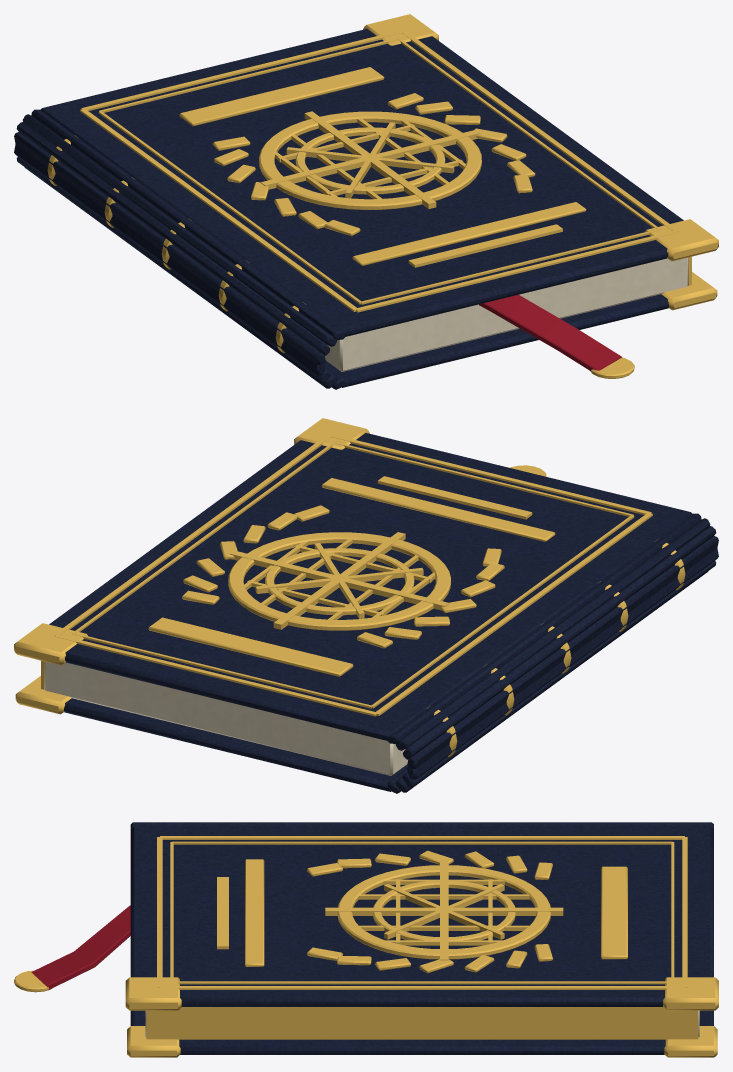
Rendered from meridian_passport_3d.glb.
3 renders of one model, top to bottom at view 1: azimuth 30°, elevation 25°; view 2: azimuth 150°, elevation 25°; view 3: azimuth 270°, elevation 25°, orthographic. The views are drawn at different scales.
Visible parts, largest first — view 1: Passport_Cover_Leather, Passport_Cover_GoldCrest, Passport_Back_Leather, Page_Stack, Passport_Silk_Ribbon, Passport_Back_Gold; view 2: Passport_Cover_Leather, Passport_Cover_GoldCrest, Passport_Back_Leather, Page_Stack, Passport_Back_Gold; view 3: Passport_Cover_Leather, Passport_Cover_GoldCrest, Passport_Back_Gold, Passport_Back_Leather, Passport_Silk_Ribbon.
Part boxes in pixels (box(x1,y1,x2,y2)): Passport_Cover_Leather: box(40, 29, 683, 336); Passport_Cover_GoldCrest: box(80, 14, 718, 312); Passport_Back_Leather: box(14, 109, 668, 389); Page_Stack: box(325, 257, 688, 371); Passport_Silk_Ribbon: box(479, 294, 622, 370); Passport_Back_Gold: box(47, 135, 717, 378); Passport_Cover_Leather: box(49, 433, 692, 740); Passport_Cover_GoldCrest: box(14, 418, 652, 716); Passport_Back_Leather: box(64, 513, 718, 793); Page_Stack: box(44, 661, 407, 775); Passport_Back_Gold: box(15, 465, 685, 757); Passport_Cover_Leather: box(130, 826, 713, 1006); Passport_Cover_GoldCrest: box(125, 836, 718, 1010); Passport_Back_Gold: box(14, 970, 717, 1057); Passport_Back_Leather: box(130, 822, 713, 1054); Passport_Silk_Ribbon: box(31, 905, 130, 990).
Bounding box in the file's own units: 0.367 × 0.0583 × 0.58.
4 materials, 2 textured.
